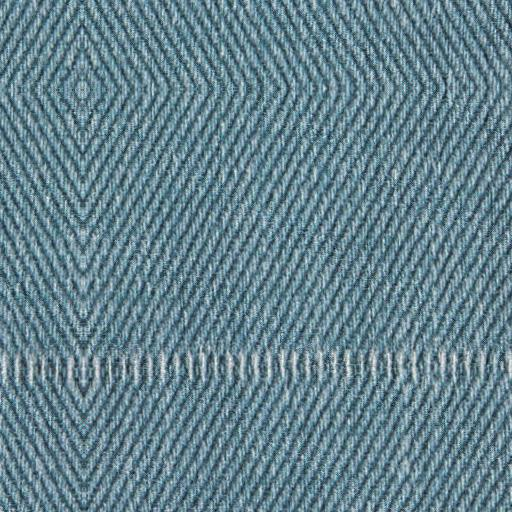slub: (4, 339, 512, 407)
